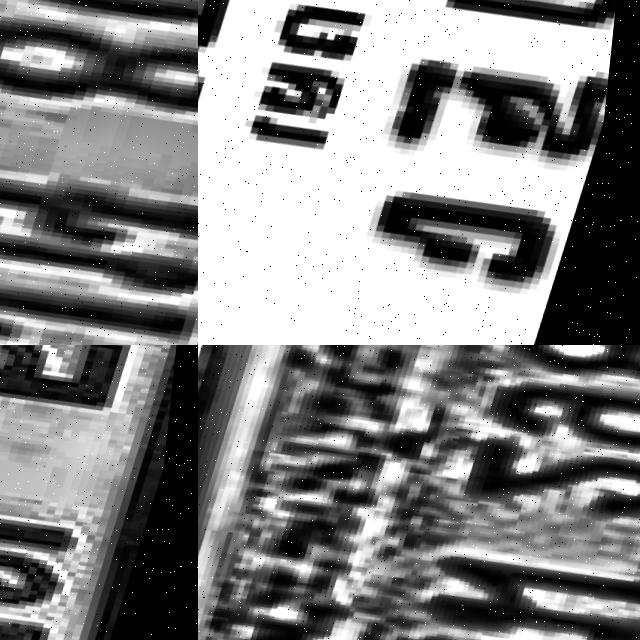license-plate: (198, 0, 640, 345), (198, 345, 640, 640), (0, 0, 198, 345), (0, 345, 198, 640)
